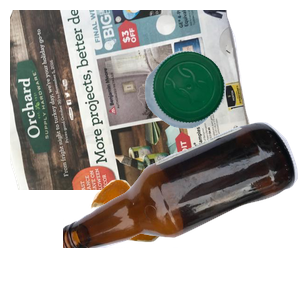glass: (63, 120, 300, 300)
paper: (10, 10, 250, 190)
plastic: (142, 48, 300, 169)
trash: (88, 177, 251, 300)
